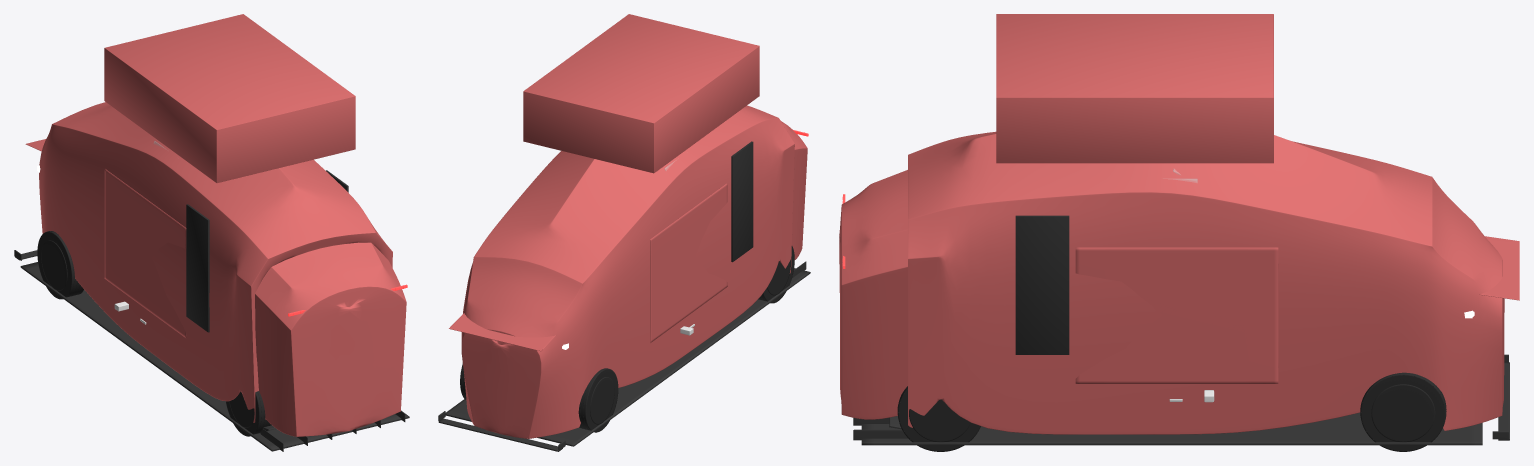
File: vehicle.glb
The picture shows the model from 3 angles, left to right: view 1: azimuth 30°, elevation 25°; view 2: azimuth 150°, elevation 25°; view 3: azimuth 270°, elevation 25°; orthographic projection. The views are drawn at different scales.
Visible parts, largest first — view 1: BODY_MainShell, AERO_Cascadia_RoofFairing, BODY_Door_FL, UNDERBODY_FlatFloor, AERO_Cascadia_SideExtenders, WHEEL_FL_Tire, WHEEL_RL_Tire; view 2: BODY_MainShell, AERO_Cascadia_RoofFairing, BODY_Door_FL, UNDERBODY_FlatFloor, AERO_Cascadia_SideExtenders, WHEEL_FL_Tire, BODY_Hood, WHEEL_RL_Tire, AERO_FrontSplitter; view 3: BODY_MainShell, AERO_Cascadia_RoofFairing, BODY_Door_FR, UNDERBODY_FlatFloor, AERO_Cascadia_SideExtenders, WHEEL_FR_Tire, WHEEL_RR_Tire, BODY_Hood, AERO_FrontSplitter.
Boxes of the visible parts, x1,y1,x2,y2 form: BODY_MainShell: (39,102,406,436); AERO_Cascadia_RoofFairing: (104,14,355,182); BODY_Door_FL: (104,169,186,338); UNDERBODY_FlatFloor: (20,262,409,451); AERO_Cascadia_SideExtenders: (186,170,348,332); WHEEL_FL_Tire: (37,231,83,299); WHEEL_RL_Tire: (225,391,271,436); BODY_MainShell: (461,105,807,438); AERO_Cascadia_RoofFairing: (523,14,759,173); BODY_Door_FL: (650,183,727,342); UNDERBODY_FlatFloor: (445,261,810,446); AERO_Cascadia_SideExtenders: (731,141,753,262); WHEEL_FL_Tire: (578,368,618,432); BODY_Hood: (449,313,556,351); WHEEL_RL_Tire: (758,246,794,303); AERO_FrontSplitter: (438,411,565,451); BODY_MainShell: (839,131,1504,434); AERO_Cascadia_RoofFairing: (996,14,1273,163); BODY_Door_FR: (1075,247,1278,383); UNDERBODY_FlatFloor: (853,412,1482,445); AERO_Cascadia_SideExtenders: (1015,215,1069,354); WHEEL_FR_Tire: (1360,372,1446,451); WHEEL_RR_Tire: (897,386,980,451); BODY_Hood: (1479,236,1519,300); AERO_FrontSplitter: (1492,354,1509,440).
Size of what is drawn, in the model's own units: 2.88 by 4.76 by 8.24.
